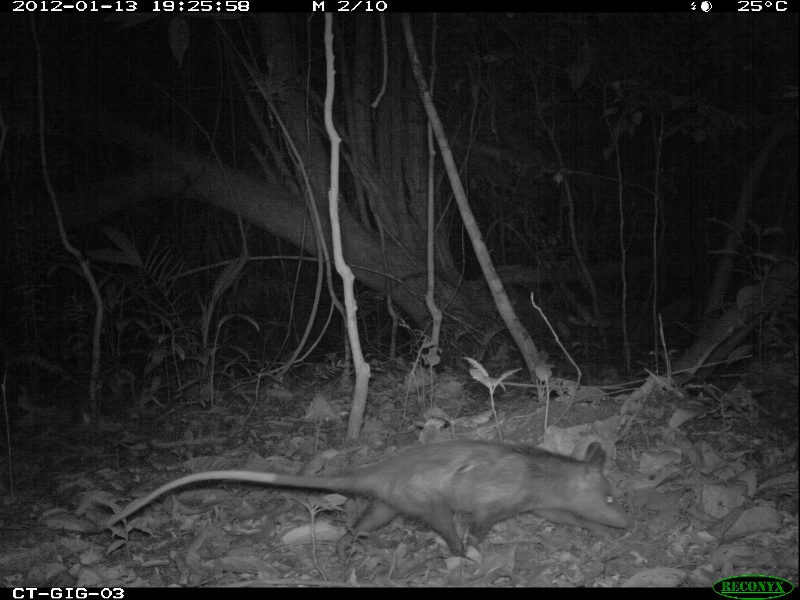opossum: (100, 438, 632, 558)
